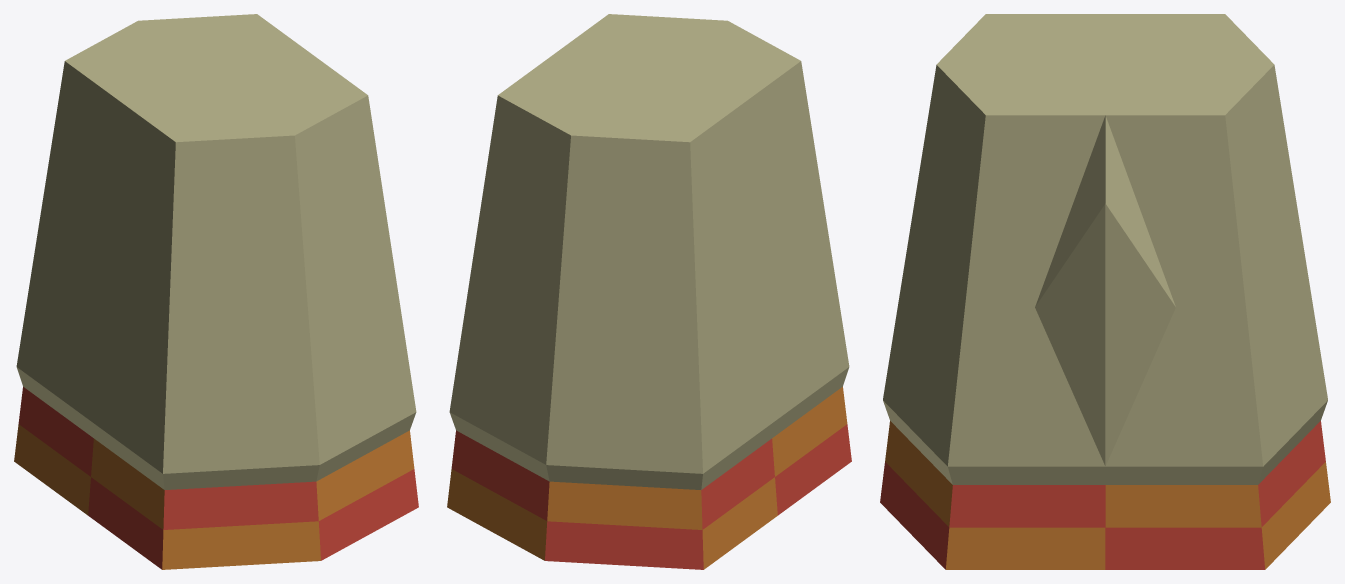
File: BoneTorso.fbx
3 renders of one model, left to right at view 1: azimuth 30°, elevation 25°; view 2: azimuth 150°, elevation 25°; view 3: azimuth 270°, elevation 25°, orthographic. The views are drawn at different scales.
Parts seen in each view (by area): view 1: Torso Armour Bone; view 2: Torso Armour Bone; view 3: Torso Armour Bone.
Part boxes in pixels (bbox=[...]): Torso Armour Bone: bbox=[14, 14, 418, 569]; Torso Armour Bone: bbox=[447, 14, 851, 569]; Torso Armour Bone: bbox=[880, 14, 1330, 569].
Bounding box in the file's own units: 226 × 320 × 299.
